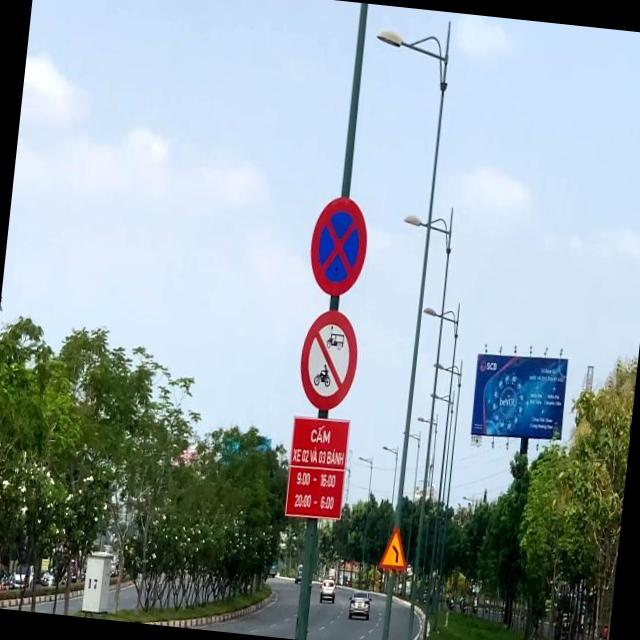P-104: (296, 305, 362, 412)
P-130: (304, 192, 372, 298)
